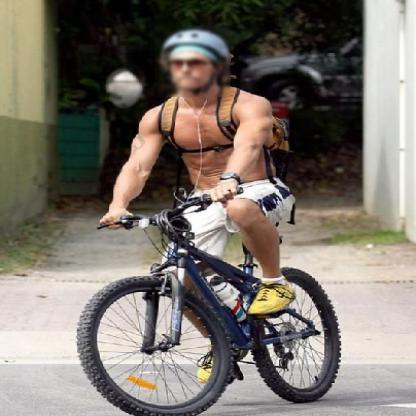Helmet: (152, 23, 240, 102)
